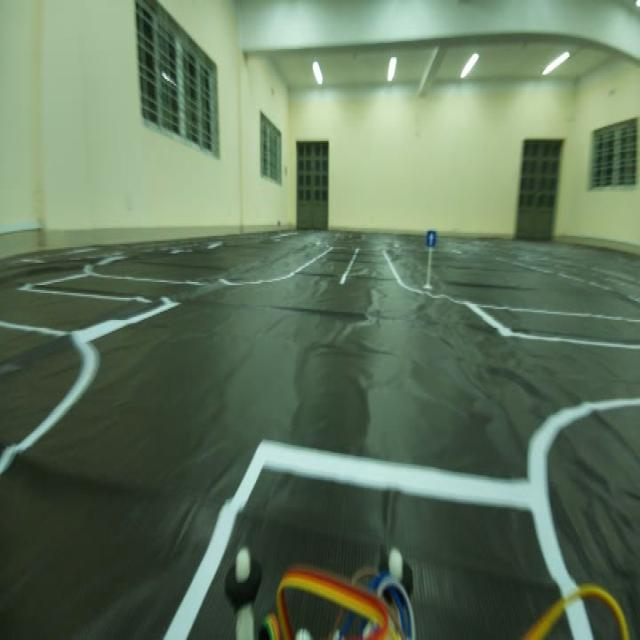onewayroad: (425, 225, 438, 252)
